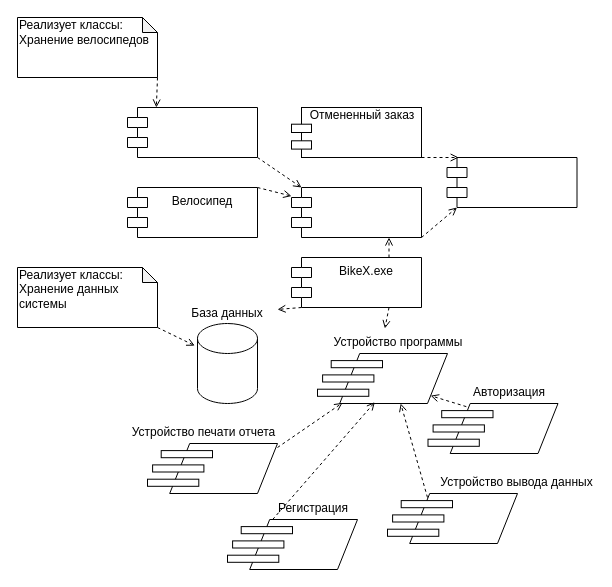
This 612x587 diagram has some shape labels left out. Each missing label, with the box of its shape:
Заказ: (290, 186, 422, 238)
Склад: (126, 106, 258, 158)
Физическое лицо: (446, 156, 577, 208)
